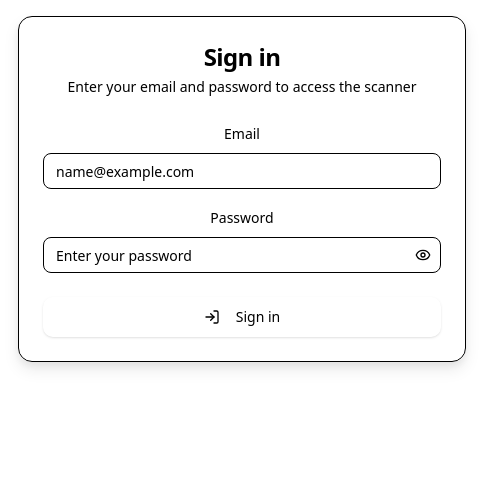
it: LoginForm › should handle network errors
Type "test@example.com" into the field labelled "Email" at [242, 171], box [43, 153, 441, 189]
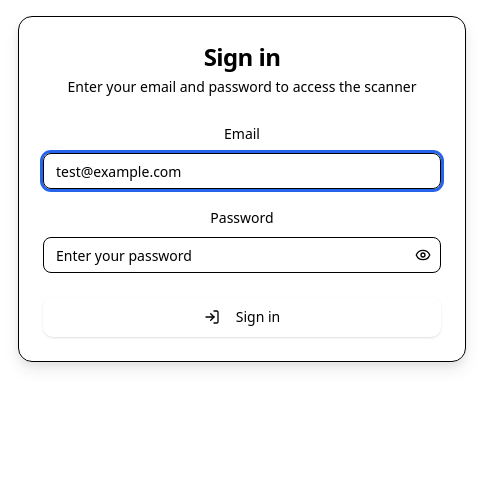
Type "password123" into the password field labelled "Password" at [242, 255], box [43, 237, 441, 273]
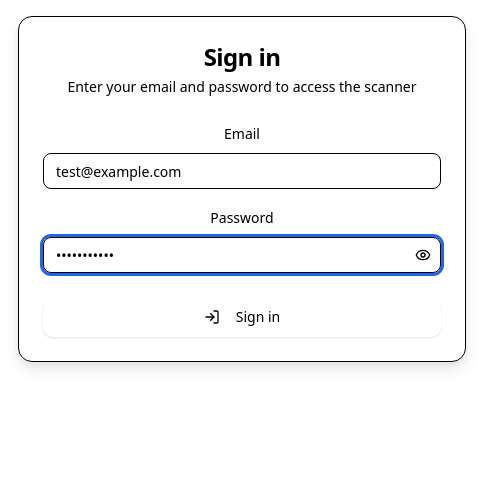
Click the button "Sign in" at [242, 317], box [43, 297, 441, 337]
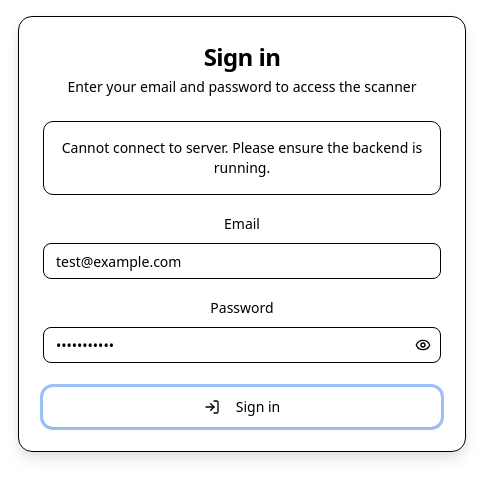
expect the text "Cannot connect to server" is shown: met, box [62, 138, 422, 177]
